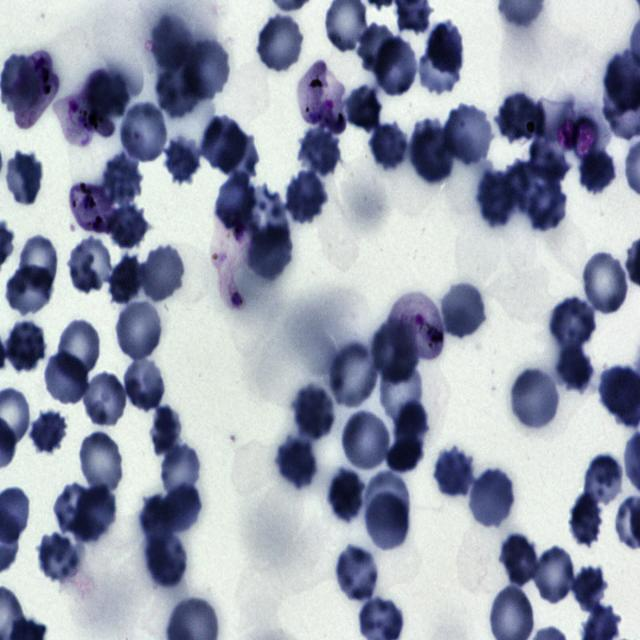leukocyte: (537, 88, 576, 150), (576, 101, 609, 158)
red blood cell: (328, 340, 380, 409), (580, 249, 631, 317), (508, 367, 560, 432), (339, 409, 392, 472), (182, 35, 232, 100), (445, 101, 494, 167), (118, 101, 169, 164), (255, 12, 306, 74), (242, 185, 290, 250), (467, 468, 516, 530), (55, 318, 104, 380), (246, 222, 295, 284), (386, 399, 428, 470), (409, 120, 454, 186), (439, 281, 488, 341), (116, 299, 162, 362), (138, 244, 186, 304), (144, 526, 189, 590), (201, 114, 248, 174), (372, 320, 416, 384), (476, 168, 519, 233), (333, 545, 381, 603), (4, 263, 55, 317), (81, 372, 129, 429), (158, 442, 204, 501), (155, 64, 204, 119), (78, 432, 123, 491), (365, 492, 410, 551), (41, 352, 90, 406), (74, 481, 116, 544), (532, 545, 576, 605), (292, 384, 337, 442), (374, 32, 416, 94), (380, 362, 422, 424), (549, 299, 595, 355), (498, 91, 544, 147), (274, 436, 320, 492), (365, 472, 409, 530), (122, 355, 166, 412), (354, 20, 401, 72), (214, 174, 256, 232), (69, 240, 112, 296), (284, 171, 328, 225), (5, 319, 48, 374), (3, 152, 45, 208), (151, 12, 193, 68), (418, 42, 462, 95), (298, 126, 342, 178), (100, 154, 144, 206), (584, 453, 624, 510), (432, 446, 474, 500), (426, 16, 464, 75), (526, 180, 568, 233), (576, 144, 618, 196), (219, 127, 258, 183), (19, 236, 56, 295), (147, 404, 186, 459), (342, 83, 384, 134), (368, 121, 409, 173), (140, 495, 178, 551), (54, 484, 94, 536), (106, 254, 144, 308), (528, 138, 570, 186), (38, 532, 77, 583), (328, 472, 367, 523), (558, 342, 594, 396), (161, 137, 202, 184), (161, 485, 202, 530), (570, 490, 602, 547), (502, 533, 536, 586), (573, 566, 610, 614), (27, 412, 68, 455), (112, 204, 148, 246)
trophozoite: (210, 210, 256, 311), (9, 51, 61, 129), (388, 292, 445, 363), (387, 291, 444, 362), (52, 88, 116, 150), (296, 60, 348, 132), (68, 182, 120, 236)
